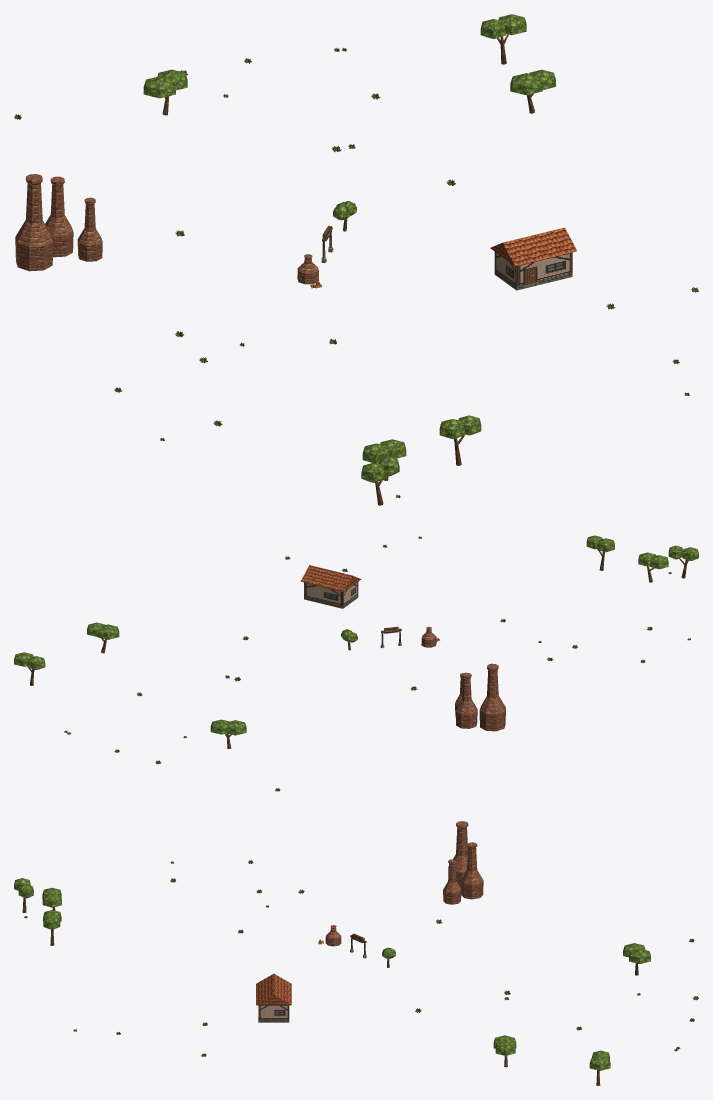
File: FieldCell_4_4.fbx
The picture shows the model from 3 angles, top to bottom: view 1: azimuth 30°, elevation 25°; view 2: azimuth 150°, elevation 25°; view 3: azimuth 270°, elevation 25°; orthographic projection. The views are drawn at different scales.
Parts seen in each view (by area): view 1: FieldCell_4_4; view 2: FieldCell_4_4; view 3: FieldCell_4_4.
Boxes of the visible parts, bbox=[...] form: FieldCell_4_4: bbox=[15, 14, 576, 505]; FieldCell_4_4: bbox=[14, 535, 698, 748]; FieldCell_4_4: bbox=[14, 821, 650, 1085].
Bounding box in the file's own units: 10972 × 1721 × 13777.
